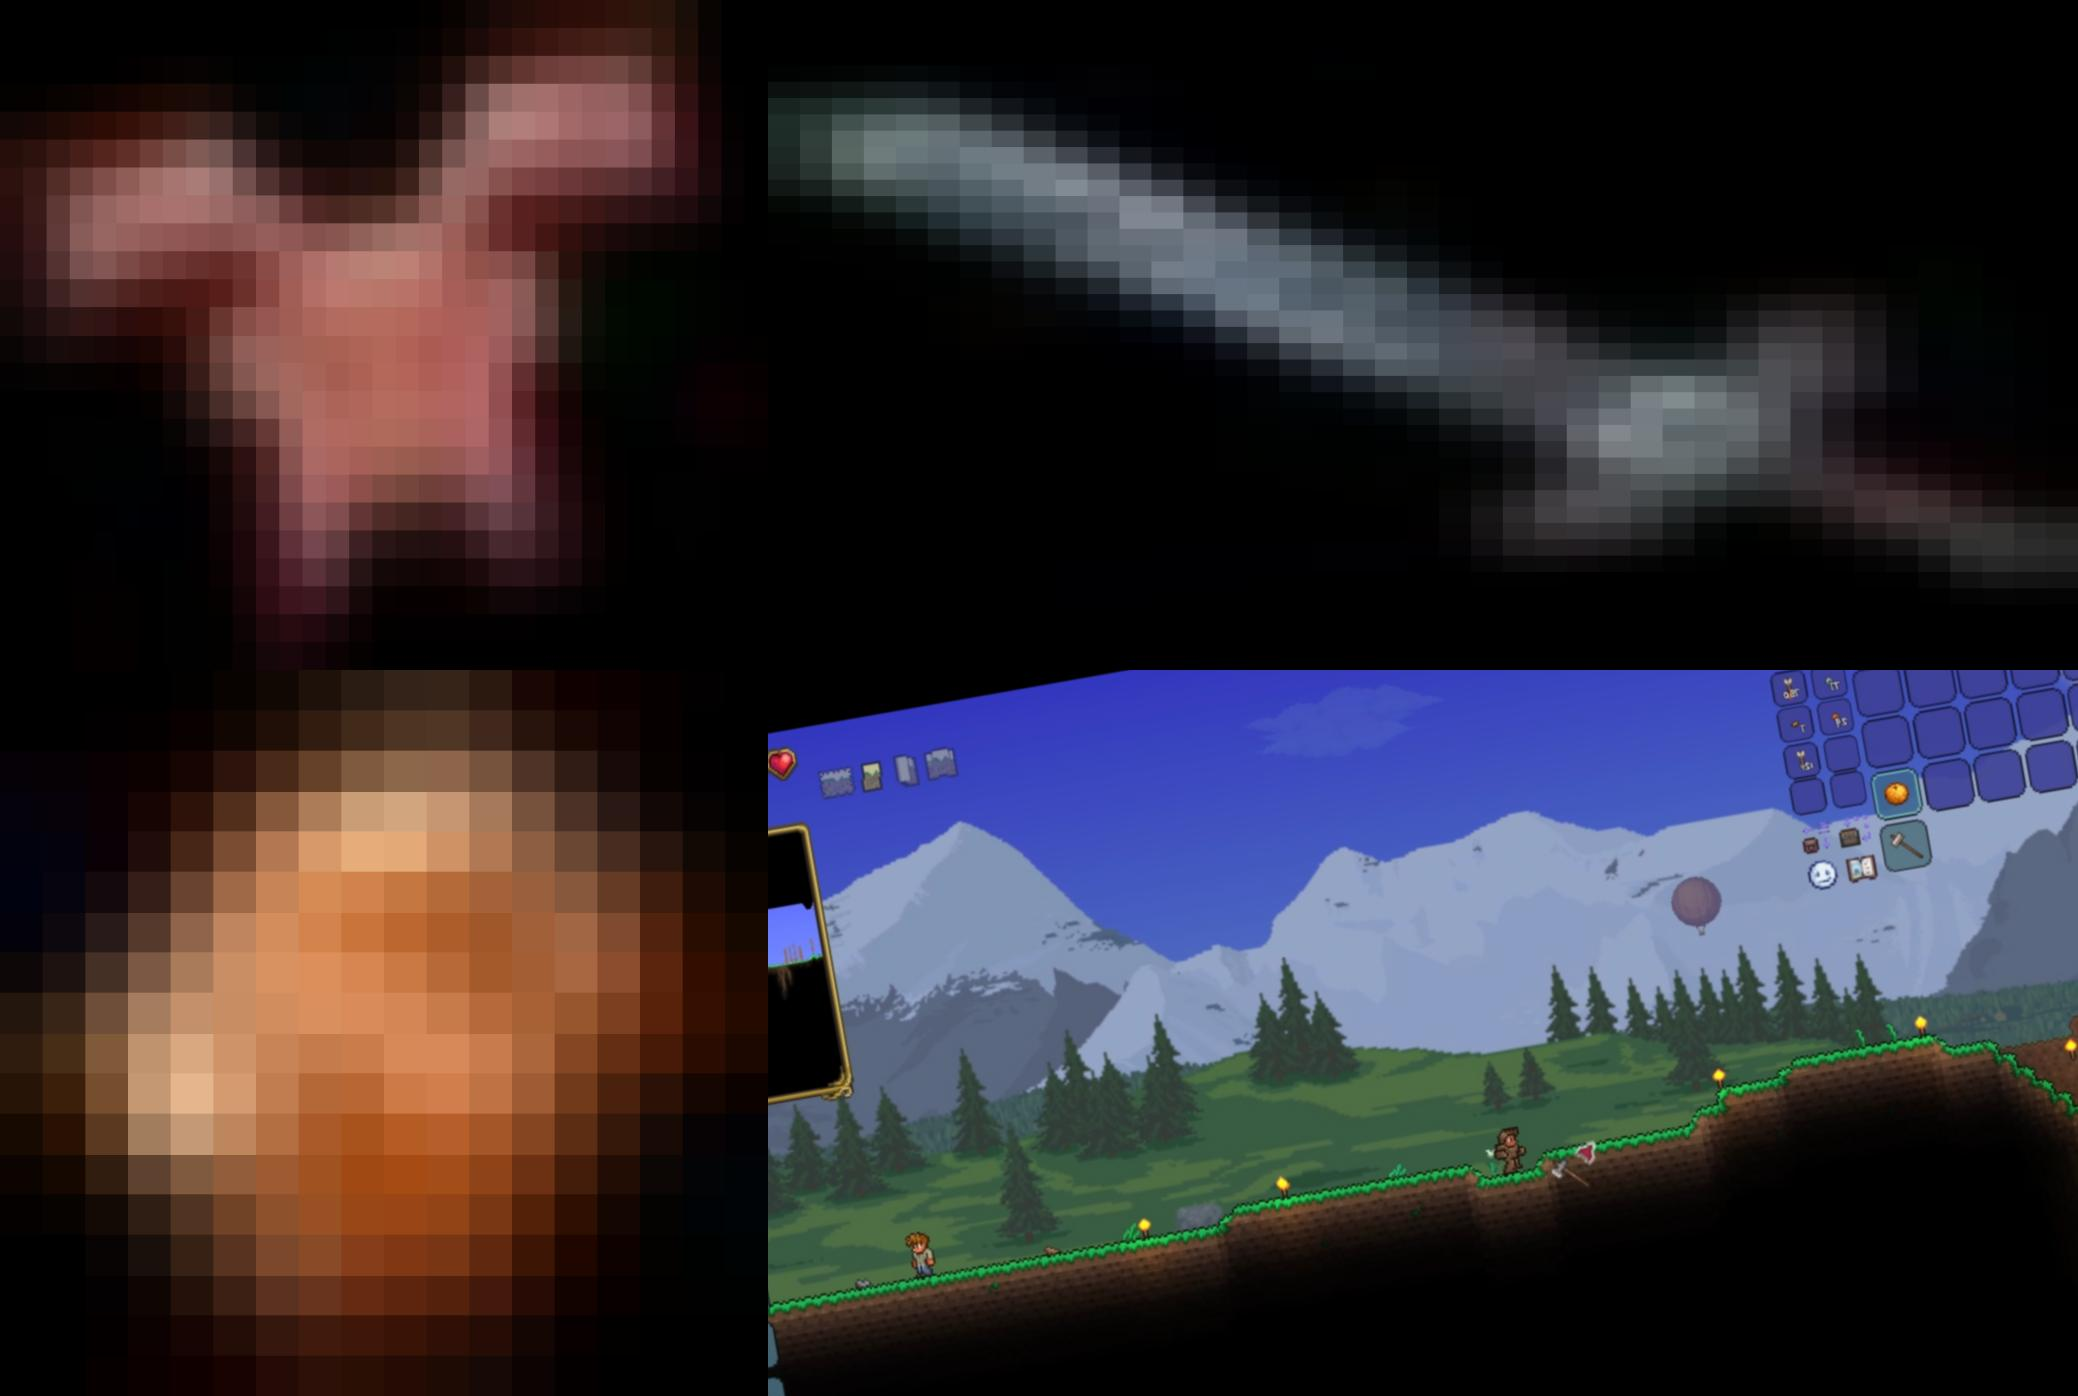breastplate: (0, 0, 768, 670)
ore: (0, 670, 768, 1396)
sword: (768, 0, 2078, 670)
